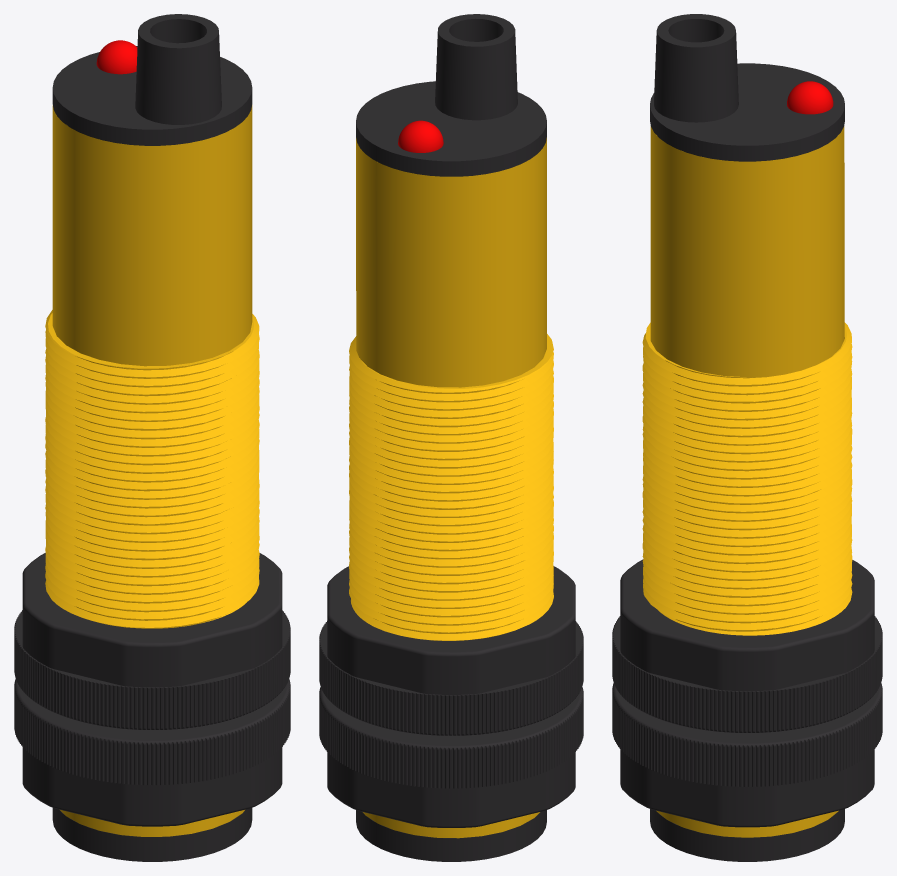
Rendered from 근접센서.fbx.
The picture shows the model from 3 angles, left to right: view 1: azimuth 30°, elevation 25°; view 2: azimuth 150°, elevation 25°; view 3: azimuth 270°, elevation 25°; orthographic projection. The views are drawn at different scales.
Visible parts, largest first — view 1: 5AD46C2E2498ADA1F704A3AE2BC77177CE11440D|:|B8A4396250C5687B1, EE9F9C4AA62CDA1E97BDDF9F67B11526642CFB65|:|B8A4396250C5687B1, A98AC01AB49CEBF7052E048097B185482B320BE2|:|B8A4396250C5687B1, 9E10E19B4EA7BA1CB6652192E20EB088F0FEDC6B|:|B8A4396250C5687B1, FD0BACFDCE22466A279545B610E4749267BFBBF2|:|B8A4396250C5687B1, 2CA3698FFE75E2D0CDB8B5726F50C00BABDBF193|:|B8A4396250C5687B1; view 2: 5AD46C2E2498ADA1F704A3AE2BC77177CE11440D|:|B8A4396250C5687B1, EE9F9C4AA62CDA1E97BDDF9F67B11526642CFB65|:|B8A4396250C5687B1, A98AC01AB49CEBF7052E048097B185482B320BE2|:|B8A4396250C5687B1, 9E10E19B4EA7BA1CB6652192E20EB088F0FEDC6B|:|B8A4396250C5687B1, FD0BACFDCE22466A279545B610E4749267BFBBF2|:|B8A4396250C5687B1, 2CA3698FFE75E2D0CDB8B5726F50C00BABDBF193|:|B8A4396250C5687B1; view 3: 5AD46C2E2498ADA1F704A3AE2BC77177CE11440D|:|B8A4396250C5687B1, EE9F9C4AA62CDA1E97BDDF9F67B11526642CFB65|:|B8A4396250C5687B1, A98AC01AB49CEBF7052E048097B185482B320BE2|:|B8A4396250C5687B1, 9E10E19B4EA7BA1CB6652192E20EB088F0FEDC6B|:|B8A4396250C5687B1, FD0BACFDCE22466A279545B610E4749267BFBBF2|:|B8A4396250C5687B1, 2CA3698FFE75E2D0CDB8B5726F50C00BABDBF193|:|B8A4396250C5687B1.
Boxes of the visible parts, x1,y1,x2,y2 form: 5AD46C2E2498ADA1F704A3AE2BC77177CE11440D|:|B8A4396250C5687B1: [45, 105, 259, 836]; EE9F9C4AA62CDA1E97BDDF9F67B11526642CFB65|:|B8A4396250C5687B1: [14, 553, 290, 729]; A98AC01AB49CEBF7052E048097B185482B320BE2|:|B8A4396250C5687B1: [14, 679, 290, 826]; 9E10E19B4EA7BA1CB6652192E20EB088F0FEDC6B|:|B8A4396250C5687B1: [52, 14, 252, 145]; FD0BACFDCE22466A279545B610E4749267BFBBF2|:|B8A4396250C5687B1: [52, 808, 252, 861]; 2CA3698FFE75E2D0CDB8B5726F50C00BABDBF193|:|B8A4396250C5687B1: [96, 40, 137, 74]; 5AD46C2E2498ADA1F704A3AE2BC77177CE11440D|:|B8A4396250C5687B1: [349, 138, 553, 838]; EE9F9C4AA62CDA1E97BDDF9F67B11526642CFB65|:|B8A4396250C5687B1: [319, 566, 583, 735]; A98AC01AB49CEBF7052E048097B185482B320BE2|:|B8A4396250C5687B1: [319, 687, 583, 827]; 9E10E19B4EA7BA1CB6652192E20EB088F0FEDC6B|:|B8A4396250C5687B1: [356, 14, 546, 176]; FD0BACFDCE22466A279545B610E4749267BFBBF2|:|B8A4396250C5687B1: [356, 810, 546, 861]; 2CA3698FFE75E2D0CDB8B5726F50C00BABDBF193|:|B8A4396250C5687B1: [398, 120, 443, 152]; 5AD46C2E2498ADA1F704A3AE2BC77177CE11440D|:|B8A4396250C5687B1: [642, 126, 852, 837]; EE9F9C4AA62CDA1E97BDDF9F67B11526642CFB65|:|B8A4396250C5687B1: [612, 559, 882, 732]; A98AC01AB49CEBF7052E048097B185482B320BE2|:|B8A4396250C5687B1: [612, 683, 882, 827]; 9E10E19B4EA7BA1CB6652192E20EB088F0FEDC6B|:|B8A4396250C5687B1: [650, 14, 844, 161]; FD0BACFDCE22466A279545B610E4749267BFBBF2|:|B8A4396250C5687B1: [650, 809, 844, 861]; 2CA3698FFE75E2D0CDB8B5726F50C00BABDBF193|:|B8A4396250C5687B1: [787, 81, 833, 114].
Size of the model in its own units: 0.9133 by 2.94 by 0.9133.
